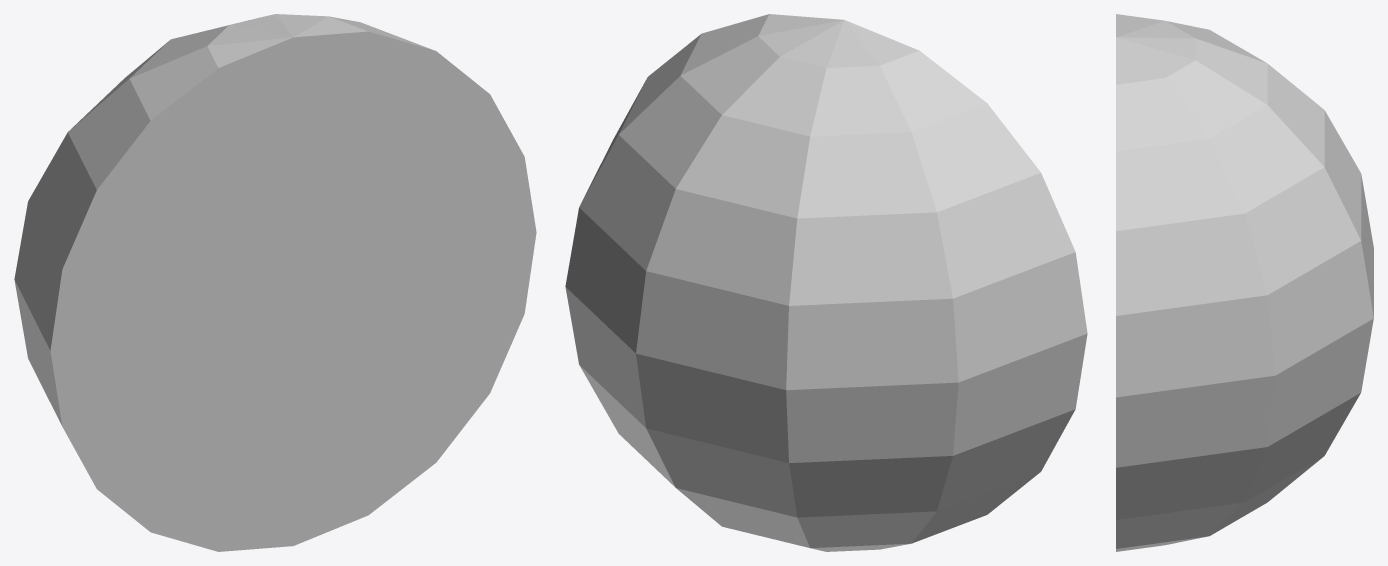
File: bubble.glb
3 renders of one model, left to right at view 1: azimuth 30°, elevation 25°; view 2: azimuth 150°, elevation 25°; view 3: azimuth 270°, elevation 25°, orthographic. The views are drawn at different scales.
Visible parts, largest first — view 1: Bubble; view 2: Bubble; view 3: Bubble.
Boxes of the visible parts, x1,y1,x2,y2 form: Bubble: (14,14,536,551); Bubble: (565,14,1087,551); Bubble: (1116,14,1373,551).
Size of the model in its own units: 2 by 2 by 0.9511.
Materials: 1 (1 with a texture image).
